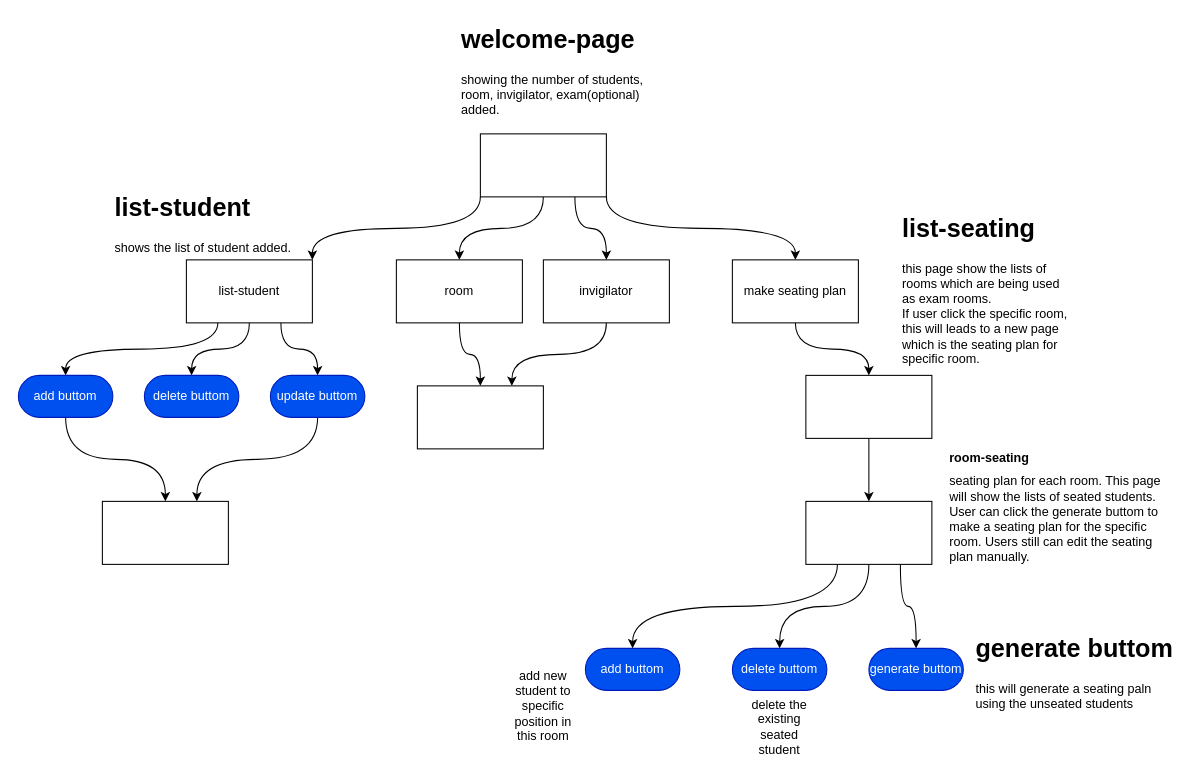
Image size: 1192x775. Some labels were removed from this diagram. The shapes that lost their labels are listed below. From the top down, each one's box as (x1, y1, x2, y2) in pixels, then its label:
(479, 133, 606, 197): welcome-page
(416, 385, 543, 449): works the same as list-student
(805, 374, 932, 438): list-seating plan
(101, 500, 228, 564): add-student-page
(805, 500, 932, 564): room-seating
